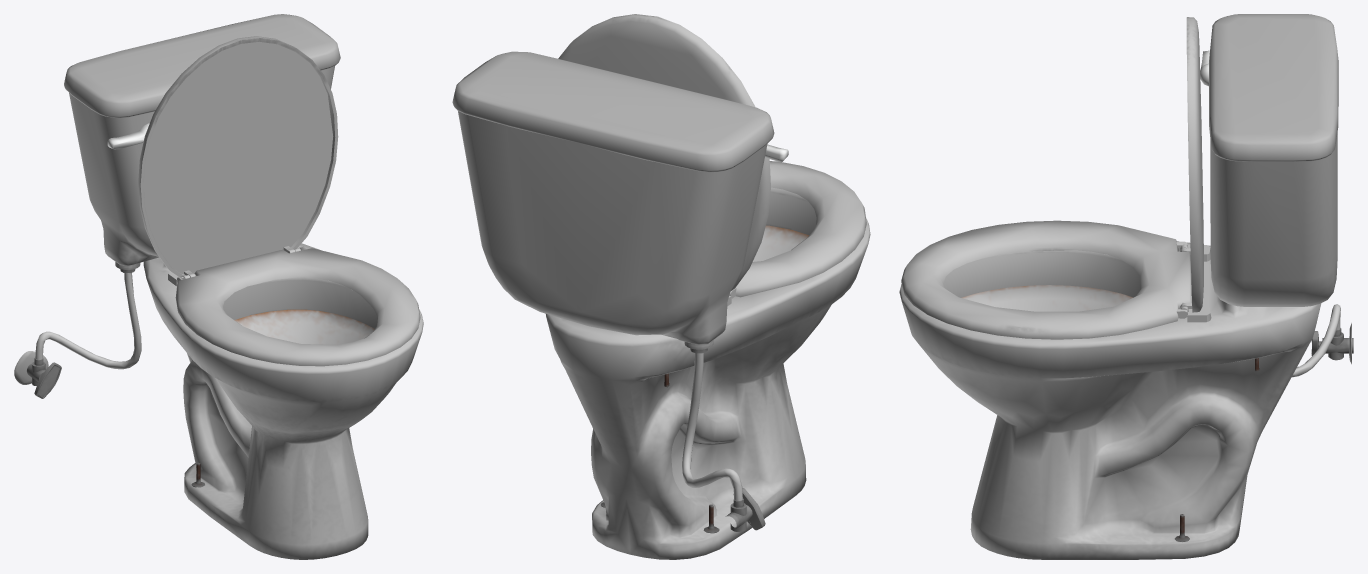
Rendered from office_toilet.glb.
The picture shows the model from 3 angles, left to right: view 1: azimuth 30°, elevation 25°; view 2: azimuth 150°, elevation 25°; view 3: azimuth 270°, elevation 25°; orthographic projection. The views are drawn at different scales.
Visible parts, largest first — view 1: Toilet, ToiletSeatCover, ToiletSeat, ToiletFlushHandle; view 2: Toilet, ToiletSeatCover, ToiletSeat; view 3: Toilet, ToiletSeat, ToiletSeatCover.
Boxes of the visible parts, box(x1,y1,x2,y2) form: Toilet: box(14, 14, 423, 559); ToiletSeatCover: box(138, 36, 338, 277); ToiletSeat: box(175, 246, 420, 366); ToiletFlushHandle: box(107, 123, 149, 149); Toilet: box(452, 51, 870, 559); ToiletSeatCover: box(558, 14, 770, 290); ToiletSeat: box(729, 161, 866, 298); Toilet: box(899, 14, 1353, 559); ToiletSeat: box(901, 220, 1191, 339); ToiletSeatCover: box(1180, 17, 1203, 312).
Bounding box in the file's own units: 0.4783 × 0.7435 × 0.607.
1 material, 1 textured.
